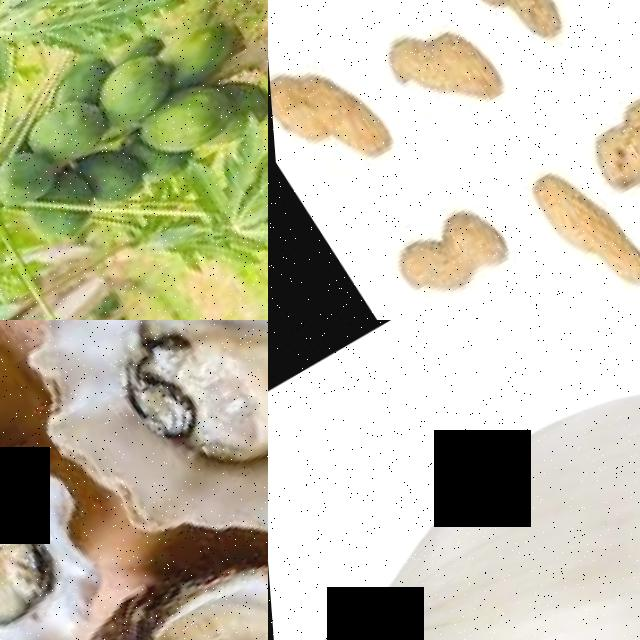oysters: (0, 320, 268, 596), (0, 320, 133, 640), (55, 496, 268, 640)
pawpaw: (125, 77, 233, 167), (80, 43, 186, 134), (13, 89, 111, 176), (150, 8, 245, 88), (12, 172, 99, 250), (68, 134, 147, 210), (0, 144, 53, 219)
peanuts: (507, 148, 640, 320), (364, 4, 513, 149), (268, 37, 400, 200), (370, 191, 515, 318), (418, 0, 573, 69), (560, 77, 640, 208)
